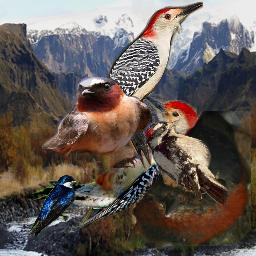Swallow: (132, 111, 251, 246), (42, 77, 152, 168), (28, 175, 76, 237)
Woodpecker: (31, 95, 198, 230), (85, 2, 203, 170), (144, 119, 228, 206)
